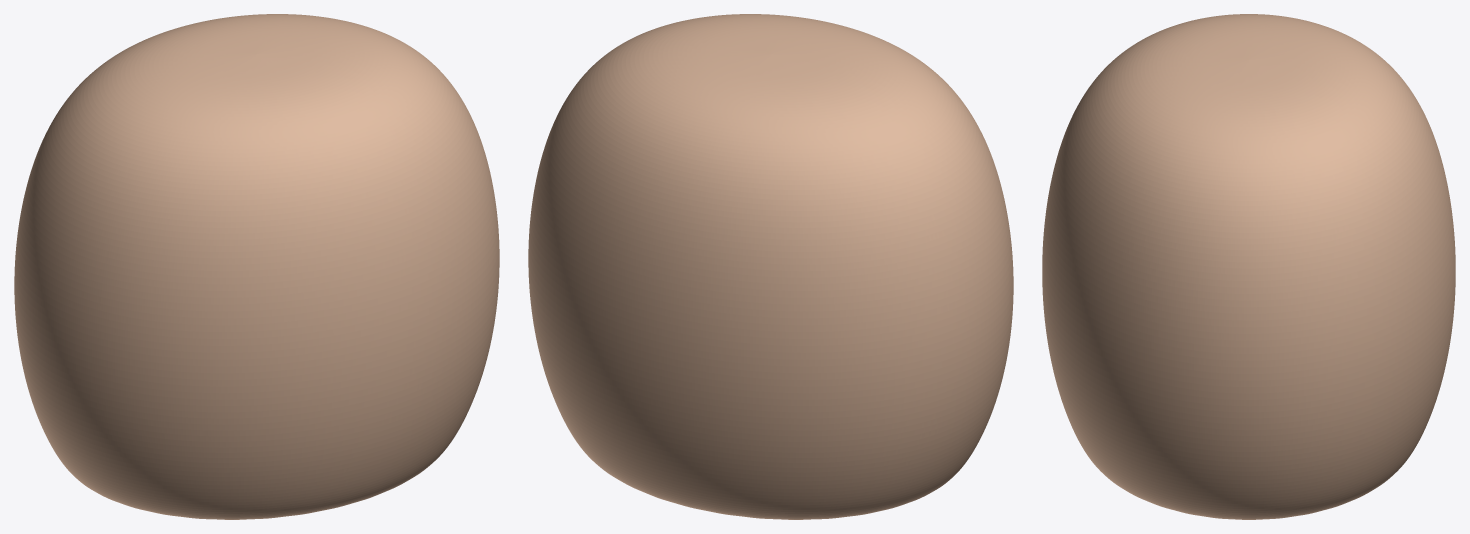
The model's file is CABEZA_M.glb.
3 renders of one model, left to right at view 1: azimuth 30°, elevation 25°; view 2: azimuth 150°, elevation 25°; view 3: azimuth 270°, elevation 25°, orthographic. The views are drawn at different scales.
Visible parts, largest first — view 1: Cylinder.006; view 2: Cylinder.006; view 3: Cylinder.006.
Part boxes in pixels (x1,y1,x2,y2): Cylinder.006: (14, 14, 499, 519); Cylinder.006: (528, 14, 1013, 519); Cylinder.006: (1042, 14, 1455, 519).
Bounding box in the file's own units: 2.1 × 1.84 × 1.78.
